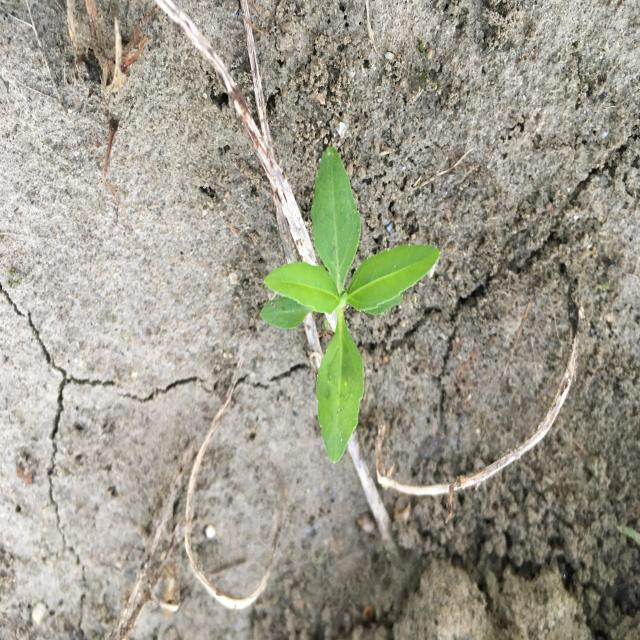Eclipta: (258, 143, 440, 465)
